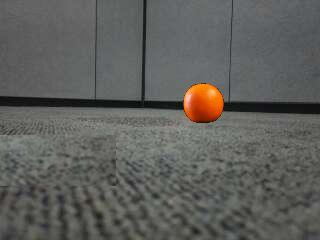Orange: (183, 83, 224, 123)
